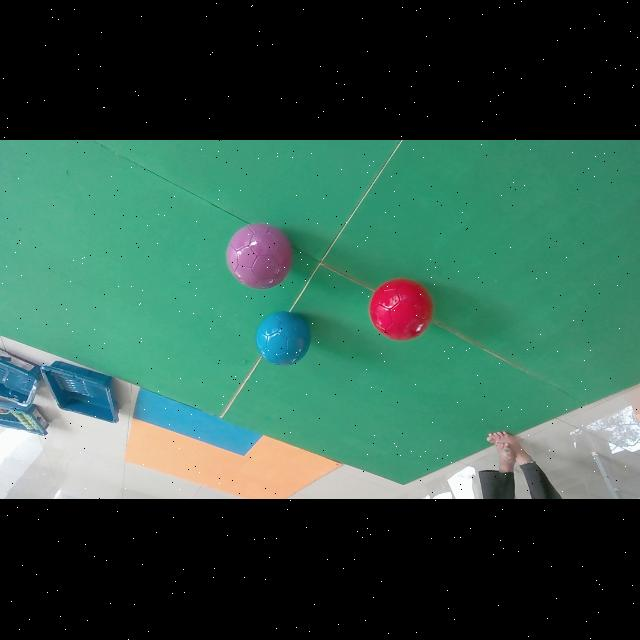B: (255, 312, 311, 366)
P: (226, 225, 292, 289)
R: (369, 280, 433, 341)
